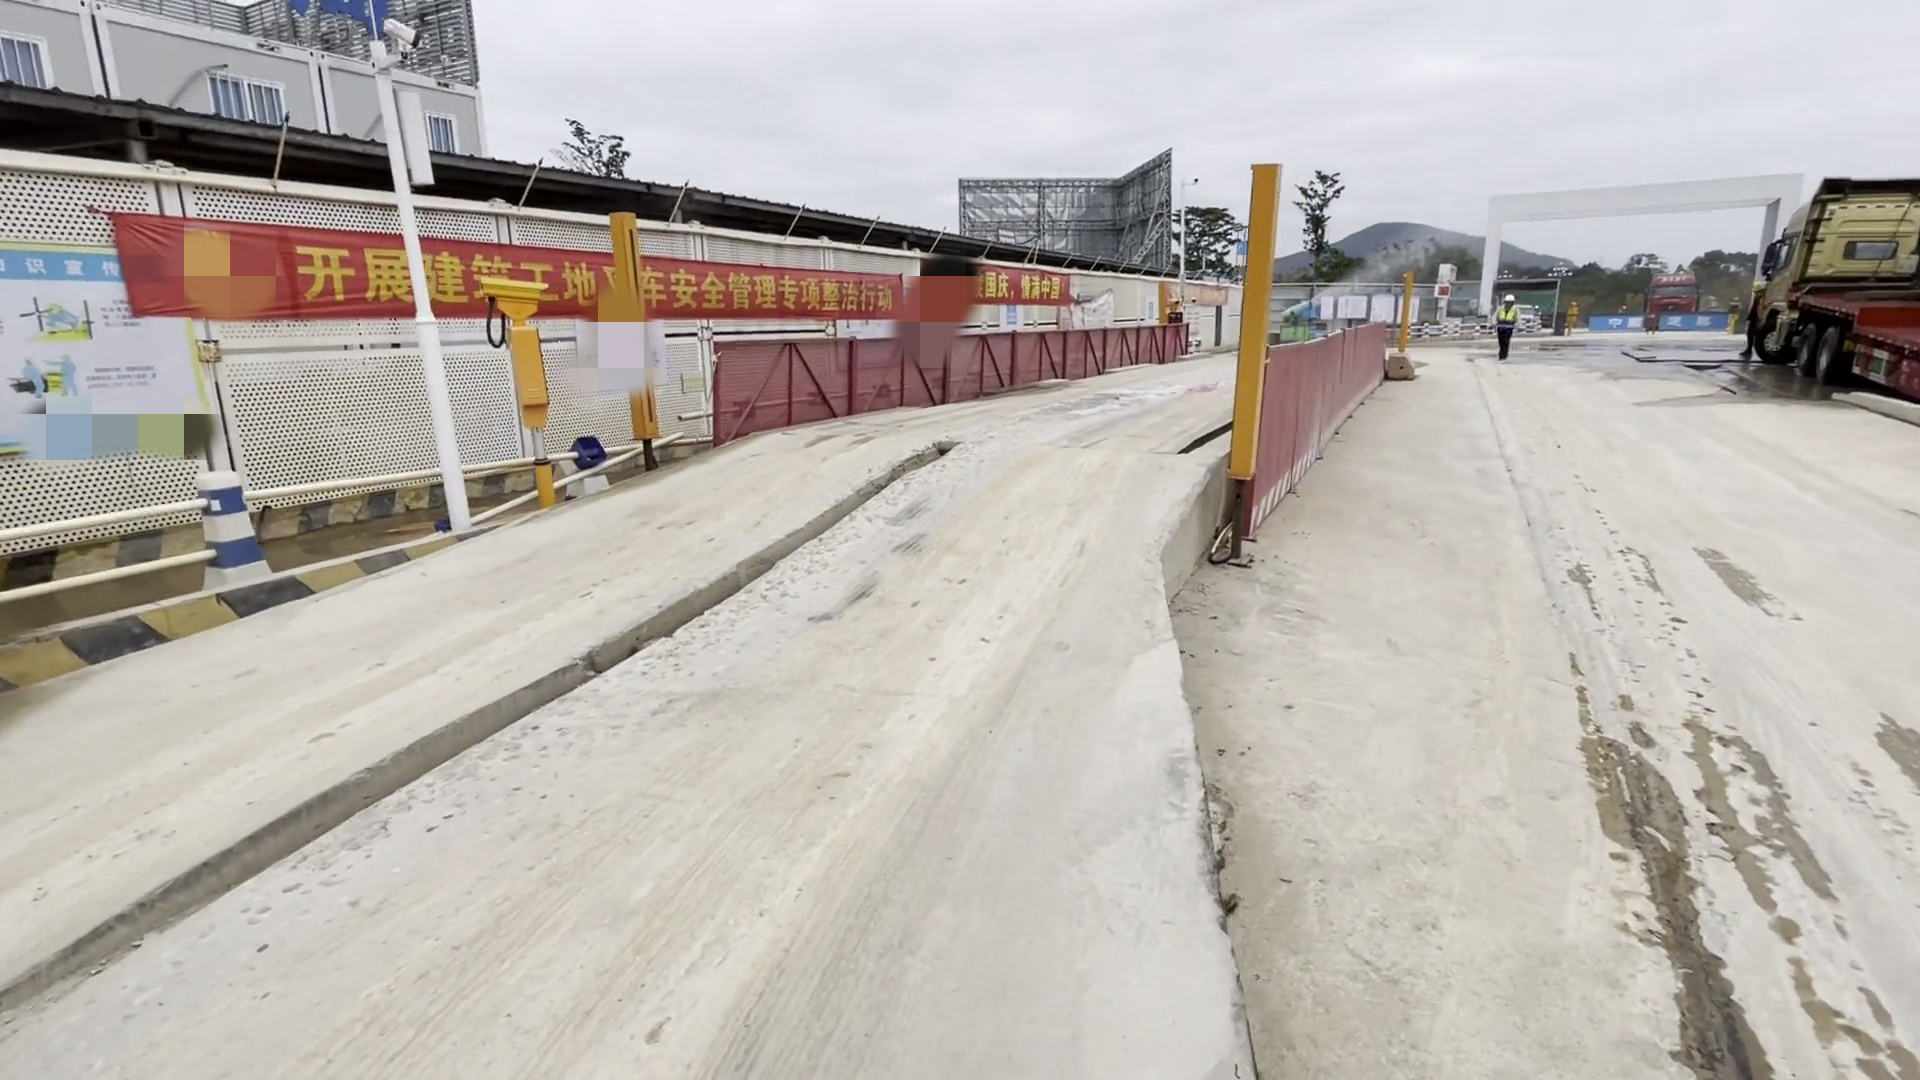fence: (702, 329, 1193, 433), (1234, 305, 1393, 546)
person: (1484, 290, 1536, 364)
slogan: (128, 199, 925, 342), (949, 270, 1069, 318)
